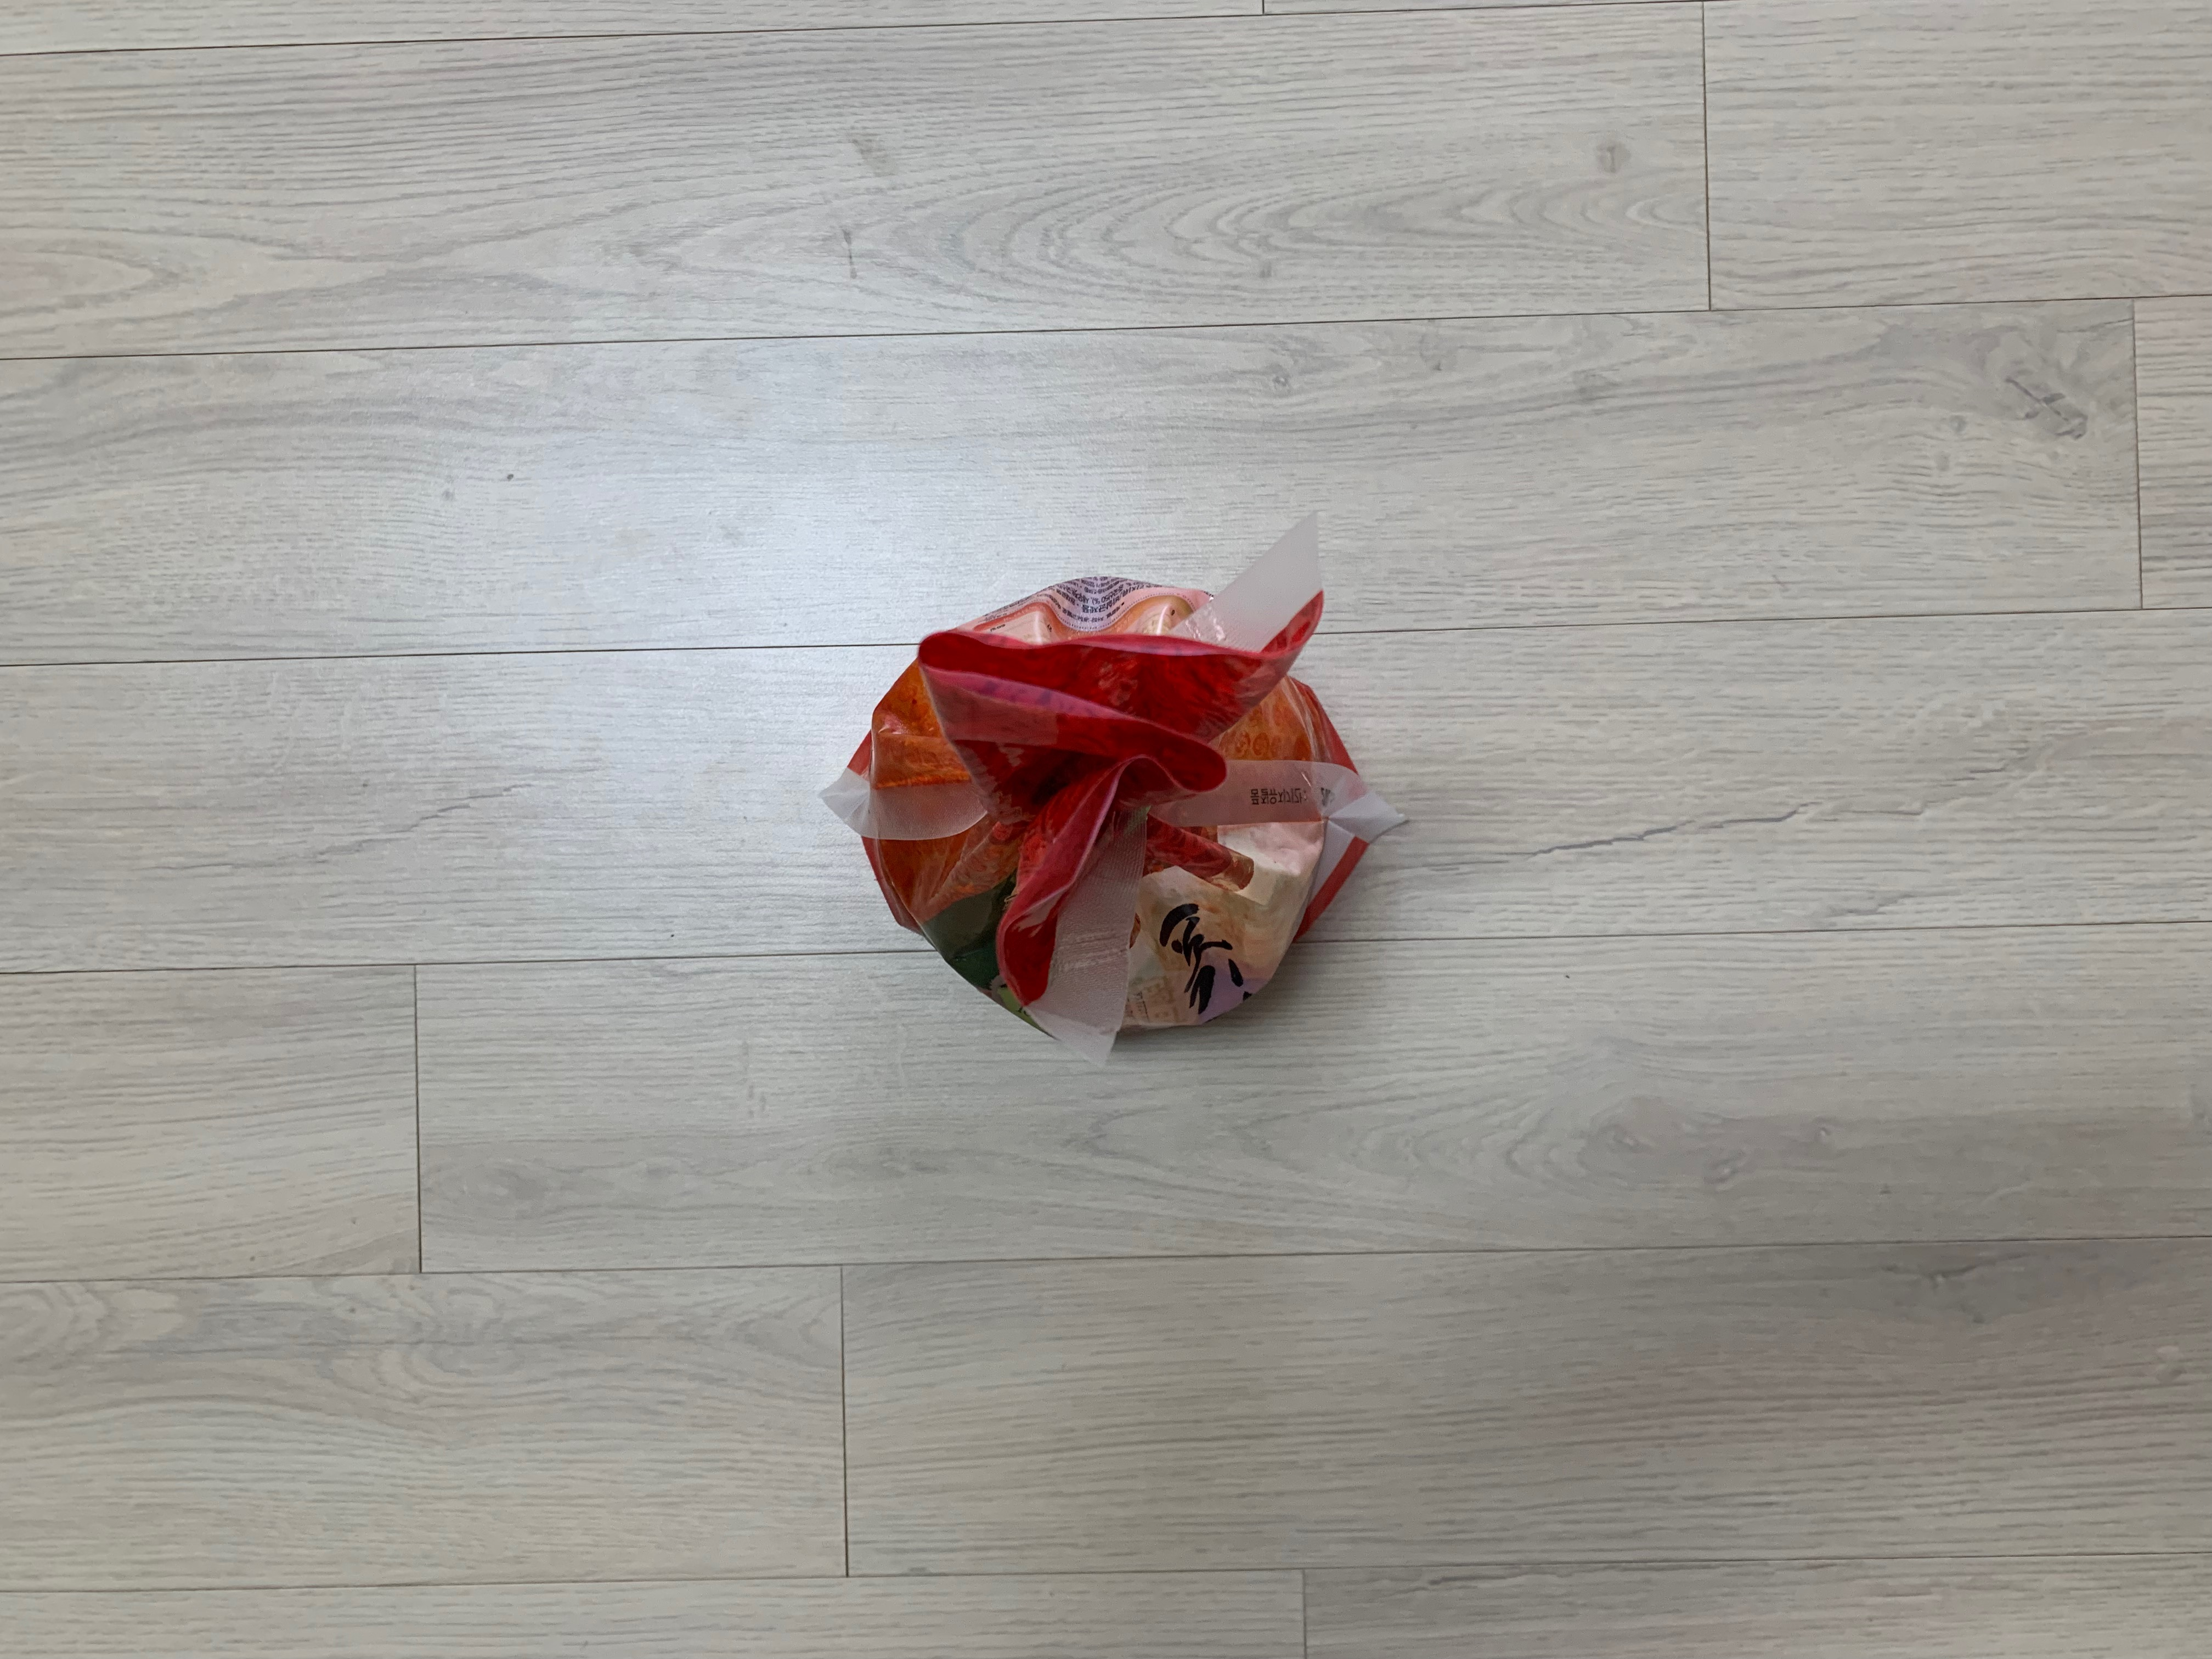kimchi: (841, 573, 1378, 1033)
